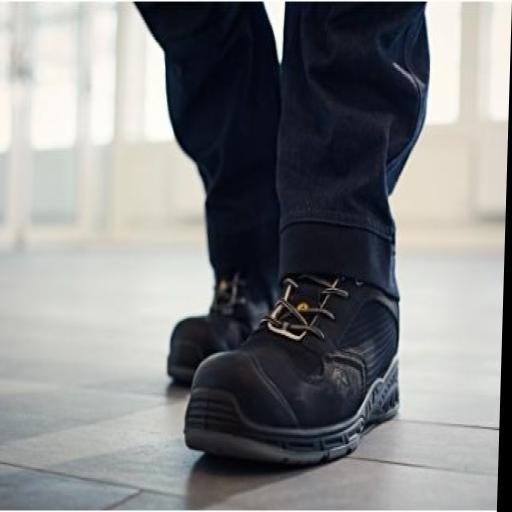safety_boots: (180, 334, 369, 479), (153, 311, 217, 377)
